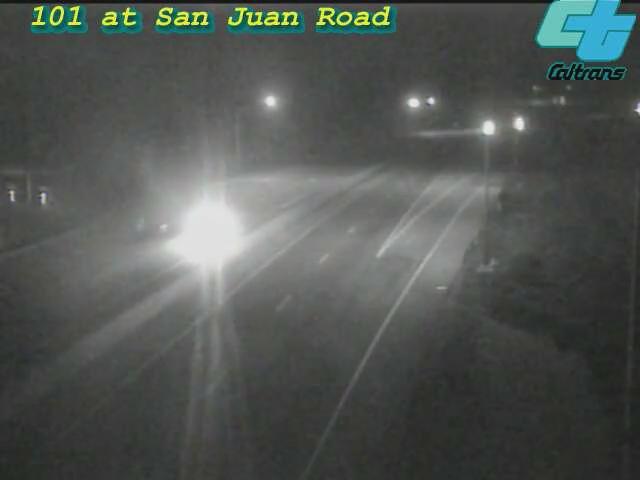vehicle: (166, 186, 246, 266), (459, 105, 509, 155), (494, 99, 544, 149)
